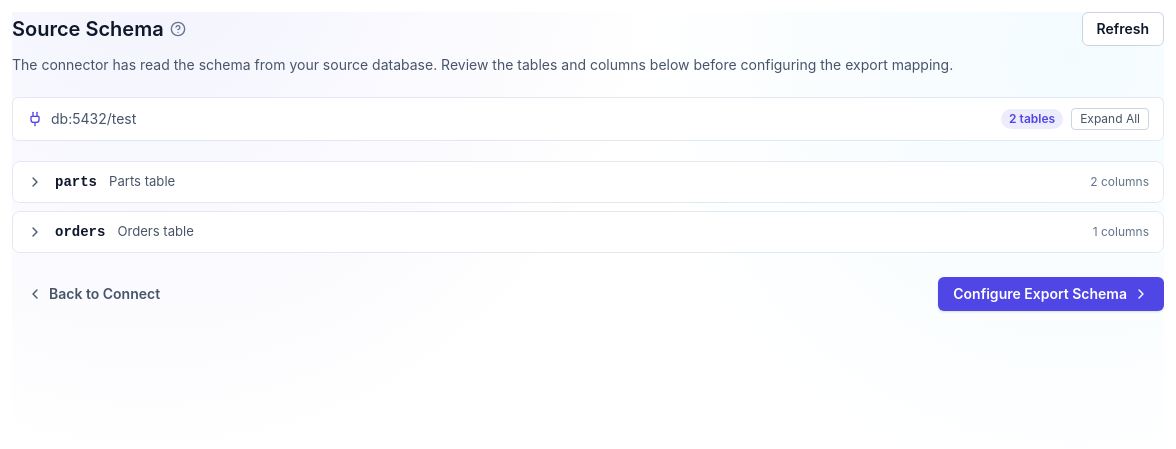
Test: SourceSchemaView › clicking a table header expands its columns
Click the button "parts Parts table 2 columns" at (76, 182), box [13,162,1163,202]
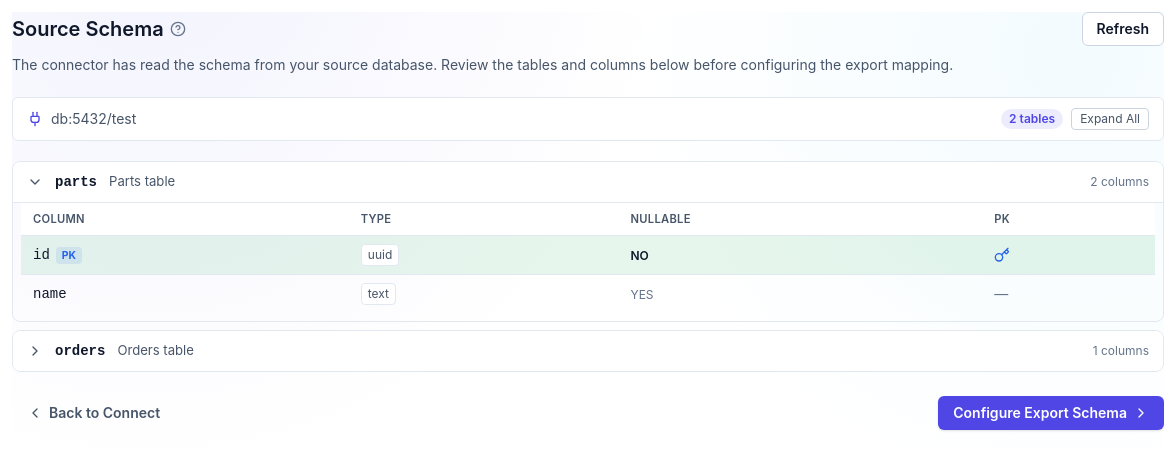
expect the text "name" is shown: met, box [33,286,67,302]
expect the table is shown: met, box [21,235,1155,313]
